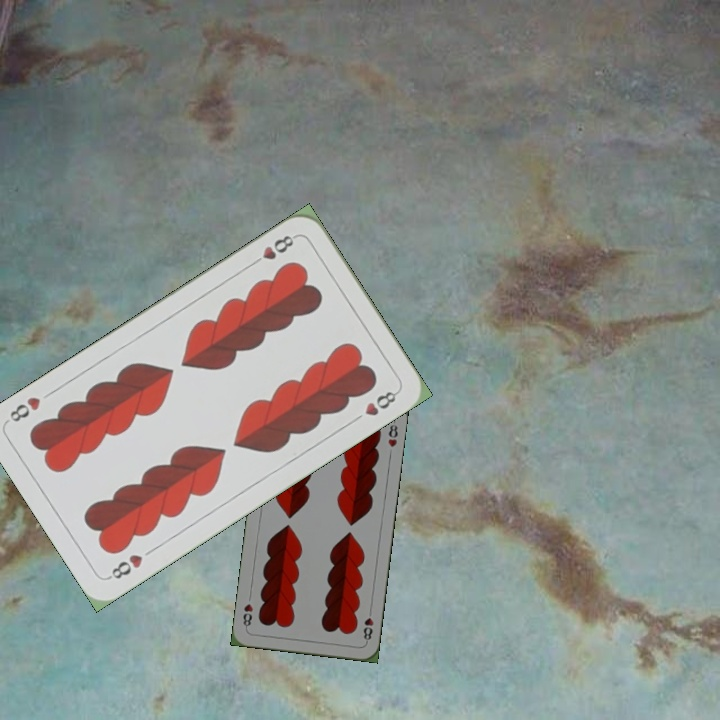H8: (247, 231, 300, 269), (104, 550, 146, 582), (359, 605, 376, 645)
